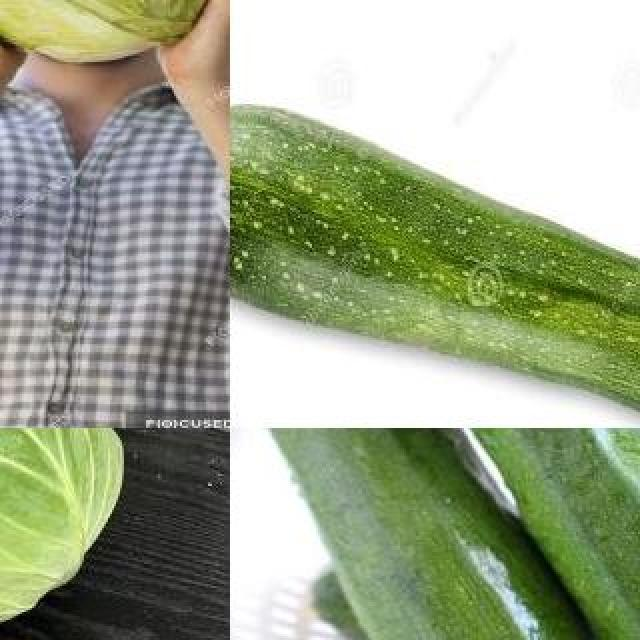Zucchini: (230, 80, 640, 422), (238, 428, 484, 640)
